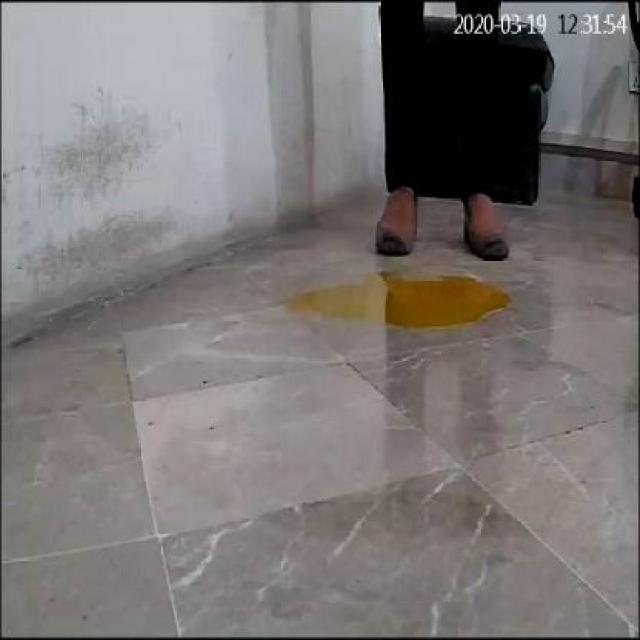spill: (290, 269, 512, 328)
